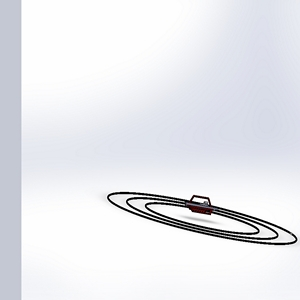circle: (98, 182, 299, 254)
submarine: (182, 191, 221, 221)
